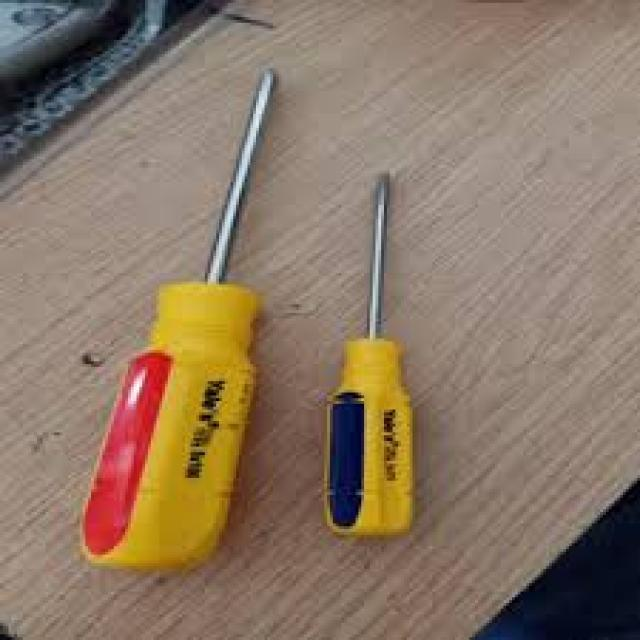screwdriver: (76, 62, 282, 578), (322, 166, 418, 539)
